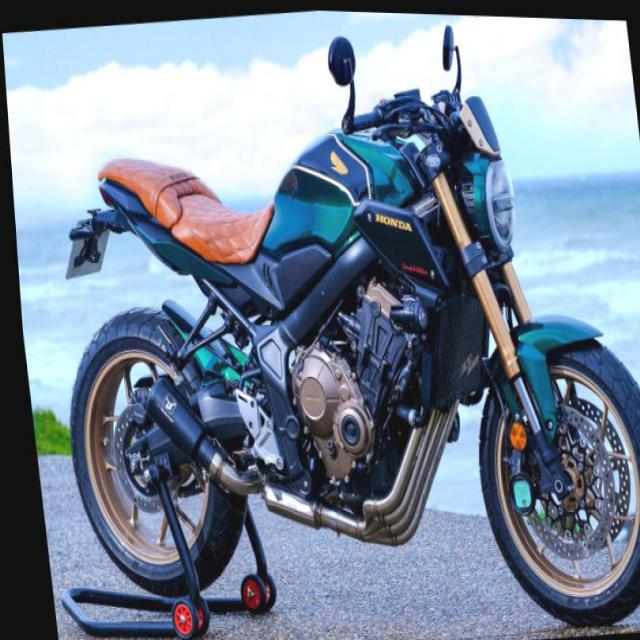CB650R: (24, 50, 639, 639)
